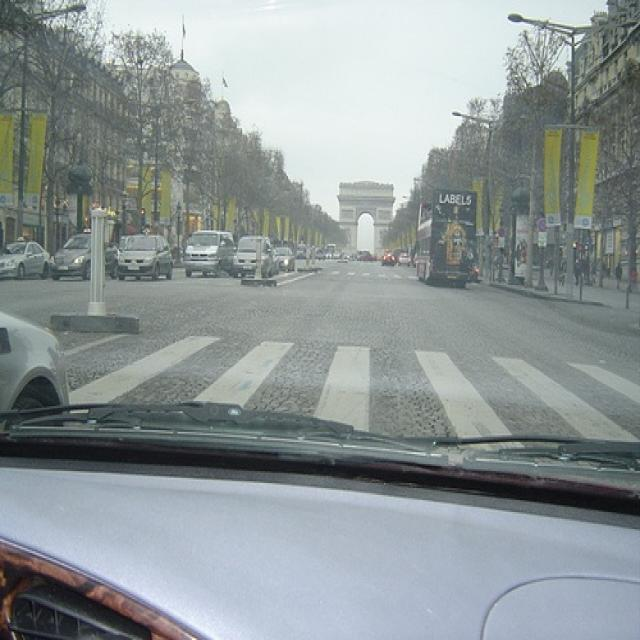bus: (419, 187, 479, 291)
car: (1, 313, 77, 416), (55, 230, 119, 283), (183, 228, 235, 281), (118, 231, 173, 281), (1, 238, 51, 283), (238, 237, 276, 278), (278, 251, 296, 273), (380, 249, 396, 271), (399, 252, 408, 265)
